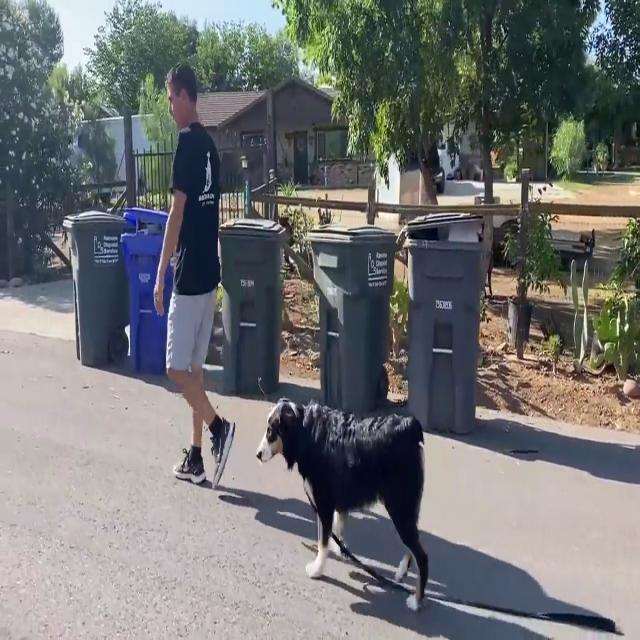Unleashed_Dog: (178, 289, 428, 613)
